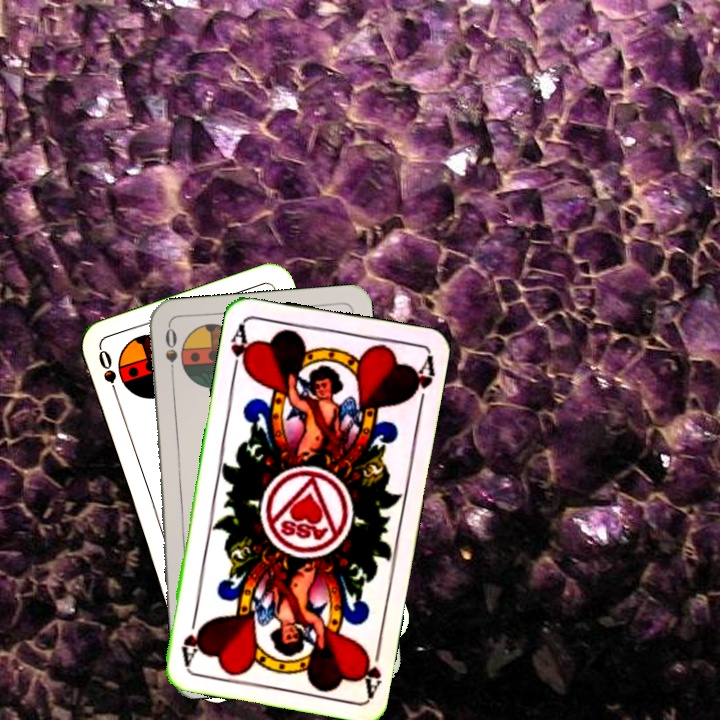HA: (355, 639, 384, 698), (226, 319, 254, 379)
SO: (94, 345, 122, 404), (161, 324, 180, 383)
